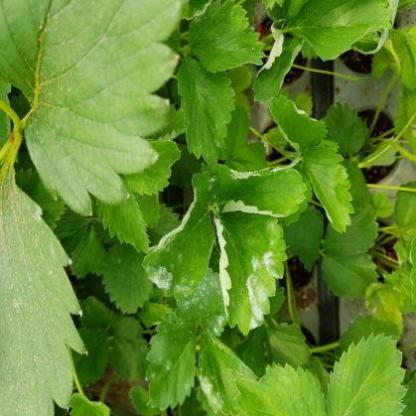Strawberry_Powdery_Mildew_Leaf: (142, 171, 220, 298), (213, 210, 289, 336), (200, 162, 310, 218), (142, 312, 200, 412), (198, 325, 261, 415), (252, 19, 305, 104), (172, 267, 228, 337), (268, 94, 327, 158)
